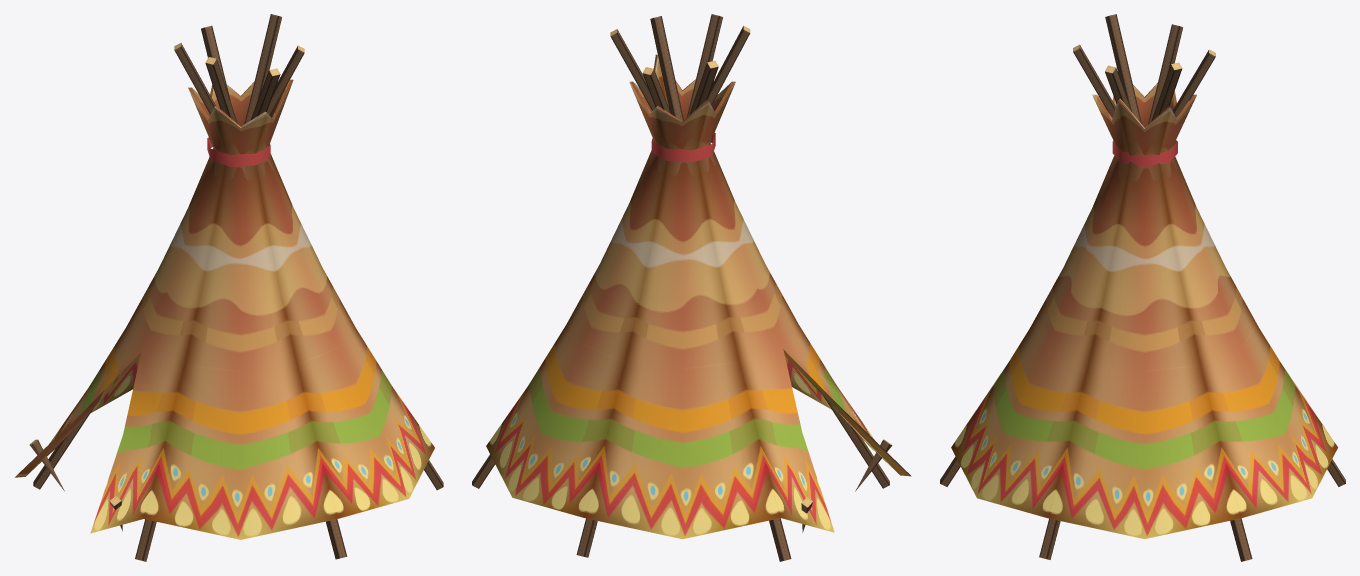
The model's file is Teepee_01.FBX.
3 views of the same model, side by side, from view 1: azimuth 30°, elevation 25°; view 2: azimuth 150°, elevation 25°; view 3: azimuth 270°, elevation 25° (orthographic).
Visible parts, largest first — view 1: Teepee_01; view 2: Teepee_01; view 3: Teepee_01.
Boxes of the visible parts, box(x1,y1,x2,y2) form: Teepee_01: box(15, 14, 443, 561); Teepee_01: box(472, 14, 911, 561); Teepee_01: box(940, 14, 1345, 561).
Size of the model in its own units: 5.12 by 6.22 by 5.07.
